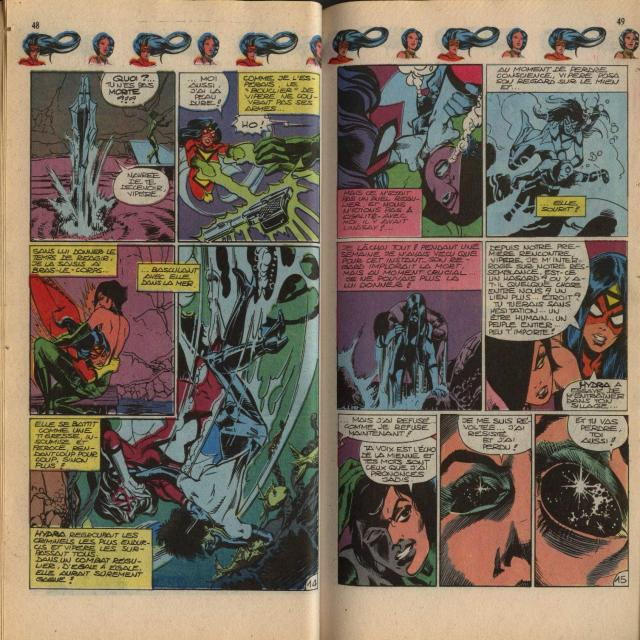comic_panel: (28, 243, 322, 592), (336, 64, 485, 239), (28, 244, 176, 418), (29, 70, 176, 244), (336, 240, 484, 412), (485, 63, 630, 237), (484, 239, 629, 413), (177, 72, 322, 245), (337, 413, 438, 589), (534, 413, 629, 590), (439, 412, 533, 590)
